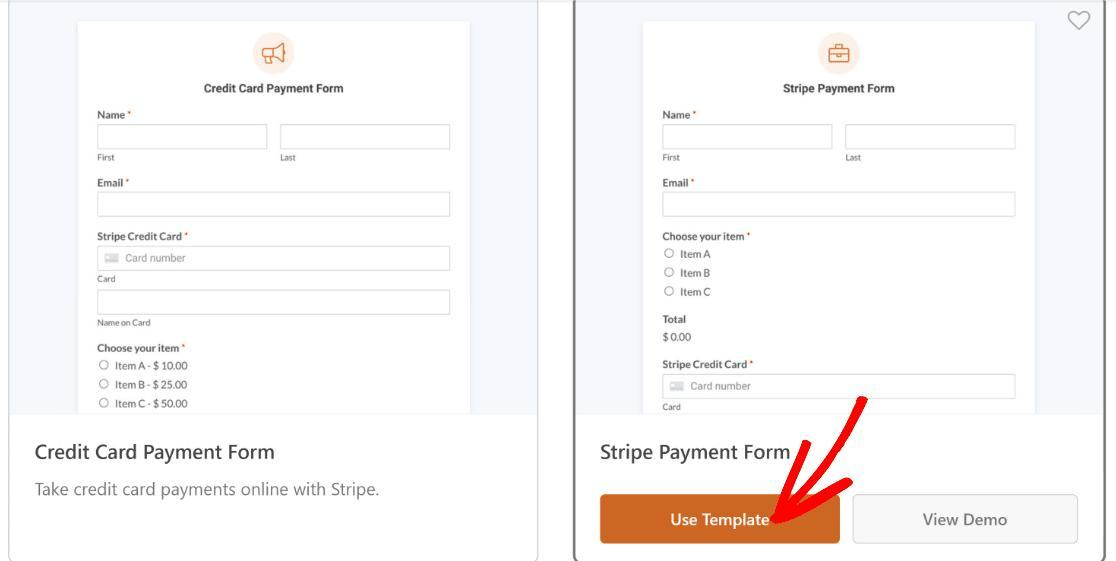button: (601, 493, 840, 544), (855, 496, 1080, 545)
icon: (1066, 7, 1094, 33)
input: (98, 191, 451, 219), (663, 375, 1018, 402), (100, 290, 452, 317), (663, 193, 1016, 218), (98, 246, 449, 271), (281, 125, 449, 154), (99, 125, 268, 150), (846, 125, 1017, 149), (665, 125, 833, 148)
label: (34, 480, 384, 500), (36, 442, 277, 464), (601, 443, 795, 465), (200, 82, 350, 96), (785, 83, 896, 95), (96, 230, 187, 244), (663, 231, 752, 245), (113, 380, 189, 393), (99, 344, 188, 355), (662, 361, 755, 371), (114, 362, 189, 373), (114, 400, 189, 410), (96, 110, 132, 123), (661, 109, 697, 122), (98, 178, 130, 190), (662, 177, 696, 188), (680, 249, 714, 260), (681, 288, 715, 298), (680, 269, 713, 279), (663, 315, 689, 325)
radio: (98, 377, 111, 391), (98, 397, 111, 411), (663, 285, 676, 297), (99, 359, 111, 371), (664, 267, 676, 279), (665, 249, 676, 260)
